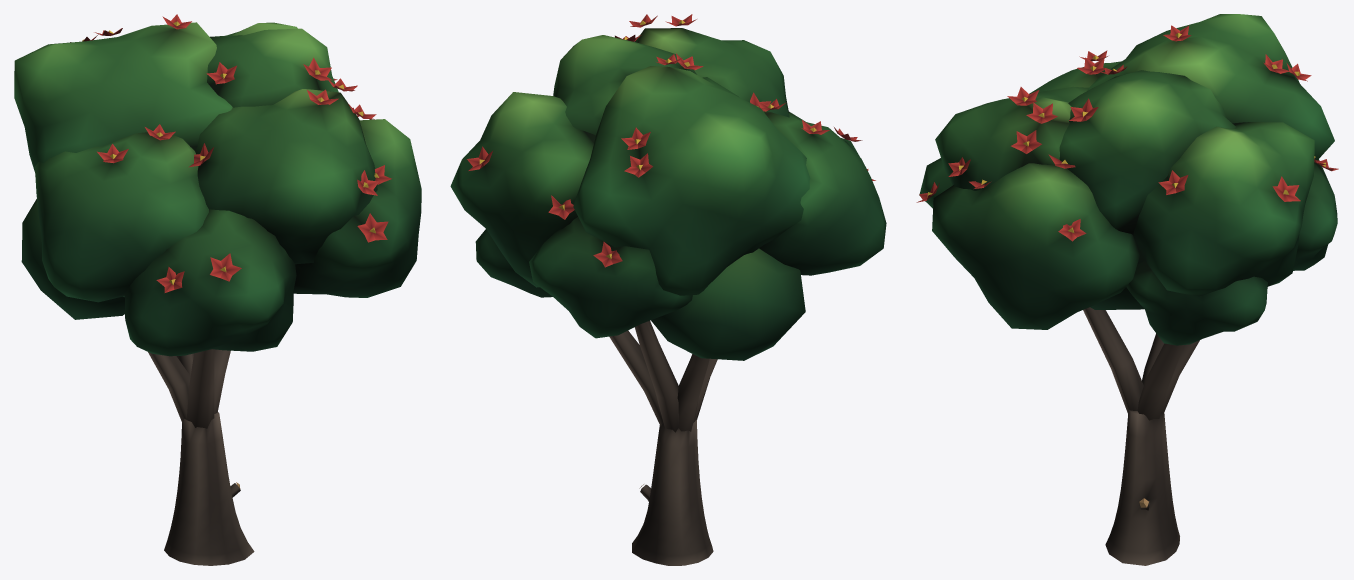
Rendered from tree-camellia-v2.glb.
The picture shows the model from 3 angles, left to right: view 1: azimuth 30°, elevation 25°; view 2: azimuth 150°, elevation 25°; view 3: azimuth 270°, elevation 25°; orthographic projection. The views are drawn at different scales.
Visible parts, largest first — view 1: 1_leaves, 0_trunk; view 2: 1_leaves, 0_trunk; view 3: 1_leaves, 0_trunk.
Boxes of the visible parts, x1=… form: 1_leaves: x1=14, y1=14, x2=421, y2=356; 0_trunk: x1=148, y1=349, x2=254, y2=565; 1_leaves: x1=450, y1=14, x2=886, y2=360; 0_trunk: x1=609, y1=320, x2=717, y2=565; 1_leaves: x1=916, y1=14, x2=1338, y2=345; 0_trunk: x1=1083, y1=307, x2=1199, y2=565.
Bounding box in the file's own units: 2.84 × 4.08 × 3.07.
